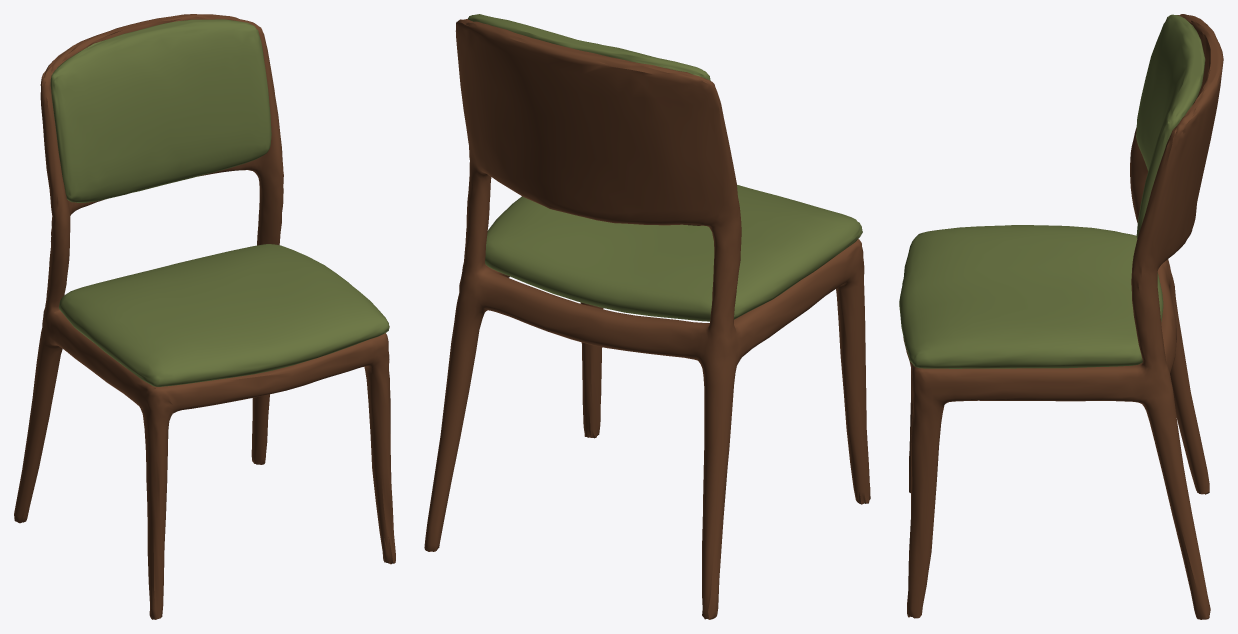
Rendered from BB_Chair_Master_001_Final.fbx.
The picture shows the model from 3 angles, left to right: view 1: azimuth 30°, elevation 25°; view 2: azimuth 150°, elevation 25°; view 3: azimuth 270°, elevation 25°; orthographic projection. The views are drawn at different scales.
Visible parts, largest first — view 1: BB_Chair_Back, BB_Chair_Seat, BB_Chair_Frame; view 2: BB_Chair_Frame, BB_Chair_Seat, BB_Chair_Back; view 3: BB_Chair_Frame, BB_Chair_Seat, BB_Chair_Back.
Boxes of the visible parts, bbox=[...] form: BB_Chair_Back: bbox=[50, 19, 271, 202]; BB_Chair_Seat: bbox=[59, 244, 389, 386]; BB_Chair_Frame: bbox=[14, 14, 395, 619]; BB_Chair_Frame: bbox=[424, 19, 870, 619]; BB_Chair_Seat: bbox=[485, 185, 862, 321]; BB_Chair_Back: bbox=[468, 14, 710, 80]; BB_Chair_Frame: bbox=[903, 14, 1223, 619]; BB_Chair_Seat: bbox=[899, 225, 1163, 368]; BB_Chair_Back: bbox=[1136, 14, 1205, 238].
Bounding box in the file's own units: 48.54 × 86 × 50.73.
